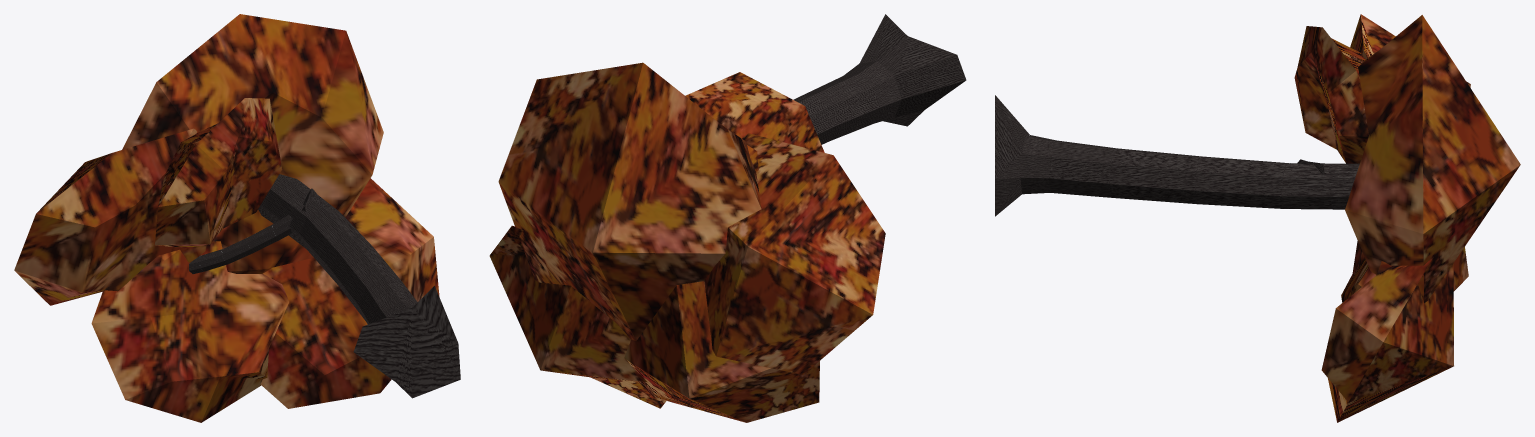
The model's file is Tree02.fbx.
3 views of the same model, side by side, from view 1: azimuth 30°, elevation 25°; view 2: azimuth 150°, elevation 25°; view 3: azimuth 270°, elevation 25° (orthographic). The views are drawn at different scales.
Visible parts, largest first — view 1: Tree02; view 2: Tree02; view 3: Tree02.
Part boxes in pixels (x1,y1,x2,y2): Tree02: (14,14,460,422); Tree02: (489,14,966,422); Tree02: (995,14,1520,422).
Bounding box in the file's own units: 1536 × 1367 × 1781.
